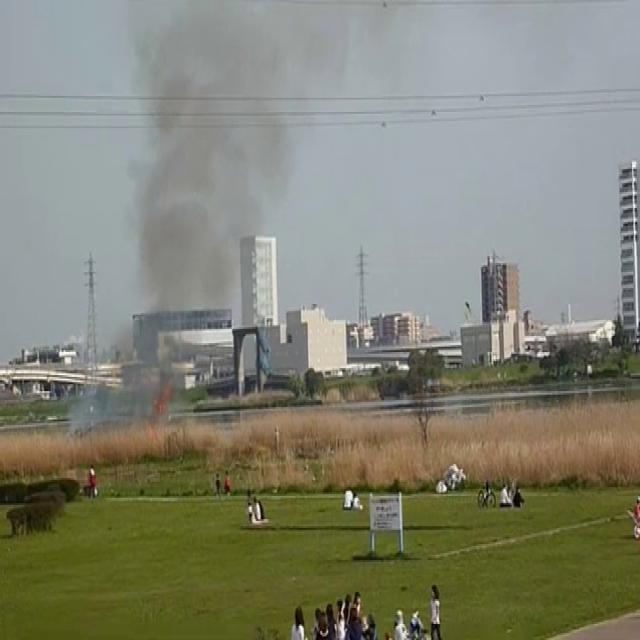Smoke: (90, 5, 312, 438)
